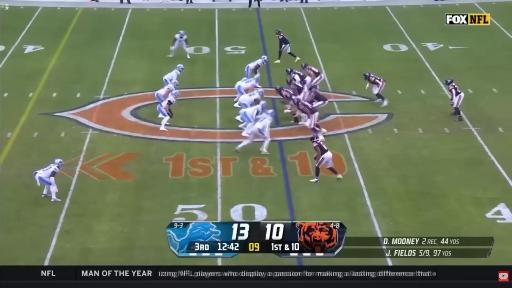Helmet: (310, 134, 320, 142), (55, 159, 63, 168), (176, 64, 185, 72), (293, 98, 302, 106), (267, 110, 275, 118), (286, 77, 293, 86), (260, 100, 267, 108), (172, 80, 179, 87), (262, 56, 269, 63), (258, 89, 265, 96), (276, 86, 283, 93), (445, 79, 453, 85), (172, 91, 178, 98), (179, 30, 185, 37), (275, 29, 282, 35), (364, 72, 370, 78), (286, 68, 292, 74), (255, 75, 260, 82), (302, 64, 307, 69)
Jersey: (292, 97, 317, 114), (239, 105, 262, 123), (239, 91, 260, 108), (253, 112, 271, 131), (36, 164, 59, 178), (155, 85, 172, 102), (247, 58, 265, 74), (236, 78, 258, 90), (164, 69, 180, 84), (308, 91, 327, 103), (313, 140, 328, 155), (290, 71, 306, 85), (448, 83, 462, 98), (368, 74, 385, 86), (306, 66, 322, 78), (289, 82, 303, 95), (278, 34, 290, 48), (279, 89, 293, 101), (174, 34, 187, 43)
Player: (236, 102, 273, 154), (310, 135, 342, 182), (292, 97, 326, 134), (34, 159, 63, 201), (237, 99, 266, 136), (275, 86, 300, 123), (234, 75, 261, 107), (157, 91, 178, 130), (364, 72, 388, 106), (445, 79, 464, 121), (286, 68, 311, 99), (275, 30, 299, 62), (168, 31, 189, 58), (245, 56, 267, 78), (302, 63, 324, 85), (155, 81, 178, 102), (307, 86, 328, 109), (286, 68, 311, 87), (238, 90, 264, 108), (163, 65, 184, 84), (287, 78, 303, 95)
